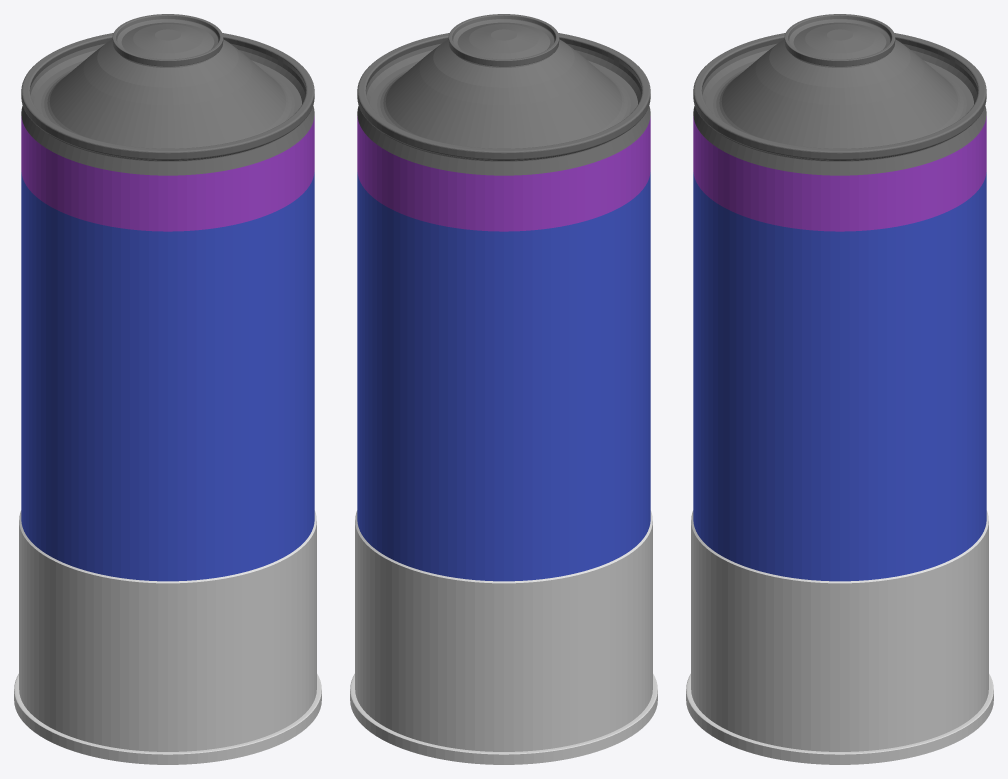
The model's file is SprayCanPieces.fbx.
The picture shows the model from 3 angles, left to right: view 1: azimuth 30°, elevation 25°; view 2: azimuth 150°, elevation 25°; view 3: azimuth 270°, elevation 25°; orthographic projection.
Visible parts, largest first — view 1: SprayPaintCan, SprayPaintLid; view 2: SprayPaintCan, SprayPaintLid; view 3: SprayPaintCan, SprayPaintLid.
Boxes of the visible parts, <box> form: SprayPaintCan: <box>21,14,314,581</box>; SprayPaintLid: <box>14,510,321,764</box>; SprayPaintCan: <box>357,14,650,581</box>; SprayPaintLid: <box>350,510,657,764</box>; SprayPaintCan: <box>693,14,986,581</box>; SprayPaintLid: <box>686,510,993,764</box>.
Size of the model in its own units: 6.92 by 6.92 by 17.2.
